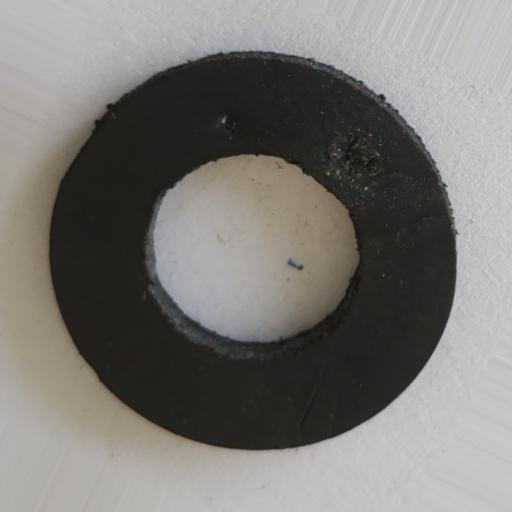defect: (328, 130, 381, 179)
